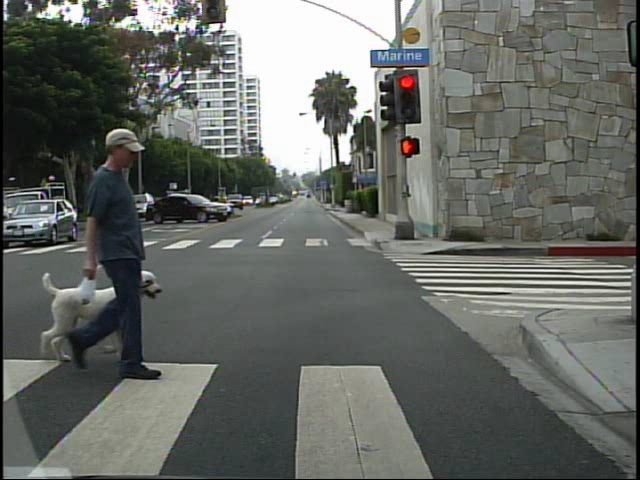person: (63, 115, 172, 382)
